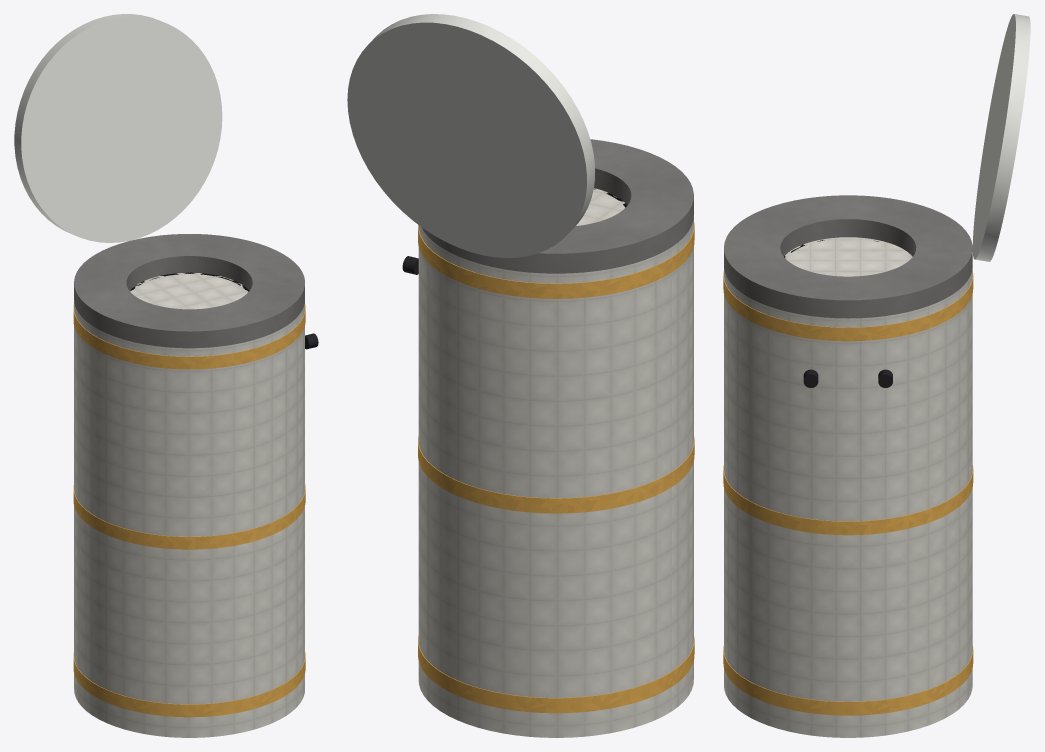
The model's file is sci05_survey_telescope_m_door_open.glb.
3 renders of one model, left to right at view 1: azimuth 30°, elevation 25°; view 2: azimuth 150°, elevation 25°; view 3: azimuth 270°, elevation 25°, orthographic. The views are drawn at different scales.
Parts seen in each view (by area): view 1: tube, door, baffle, tube_bands; view 2: tube, door, tube_bands, baffle; view 3: tube, baffle, tube_bands, door.
Boxes of the visible parts, x1,y1,x2,y2 form: tube: (74,273,304,737); door: (14,14,222,242); baffle: (74,234,304,348); tube_bands: (73,304,305,717); tube: (418,188,693,737); door: (347,14,594,257); tube_bands: (418,222,694,713); baffle: (421,139,693,273); tube: (724,237,972,737); baffle: (724,195,972,318); tube_bands: (723,271,973,715); door: (972,14,1030,261).
Size of the model in its own units: 2.6 by 7.31 by 3.09.
Materials: 7 (3 with a texture image).
